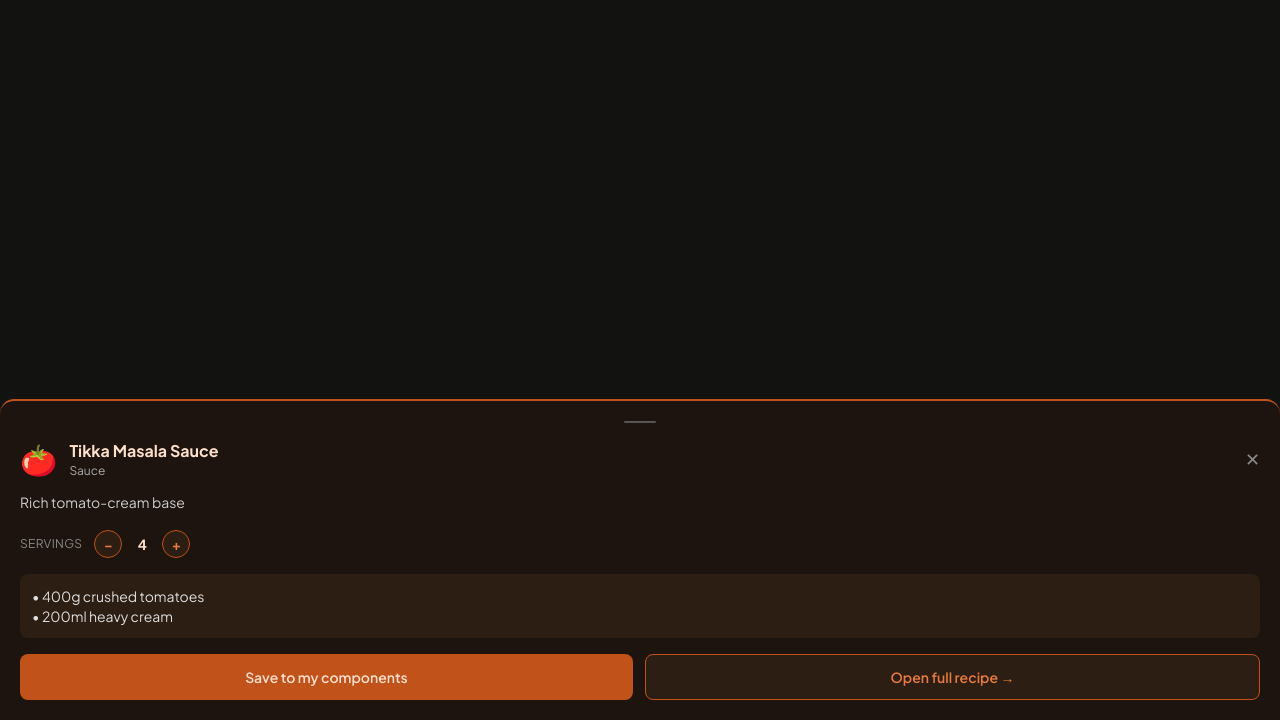
it: ComponentSheet › scales ingredient amounts when servings increase
This screenshot has width=1280, height=720.
Click the button "+": (176, 544) left=162, top=530, right=190, bottom=558
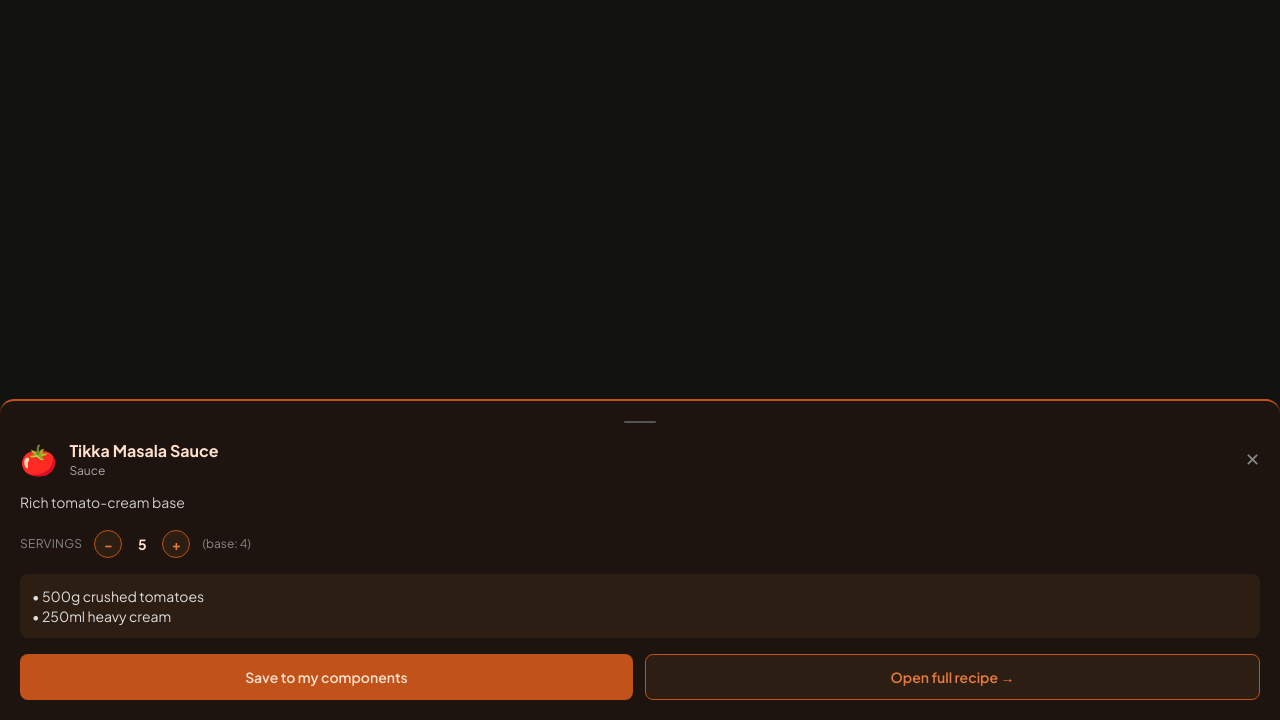
Expected: the text "• 500g crushed tomatoes" is shown, left=32, top=587, right=204, bottom=605
